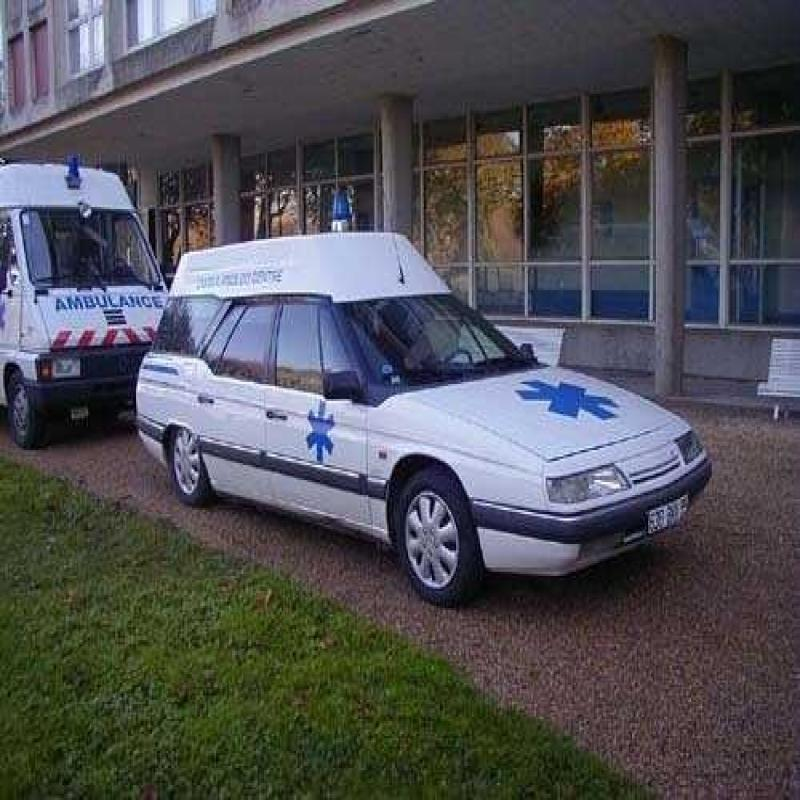AmbulanceSiren: (52, 143, 97, 195), (323, 185, 363, 228)
